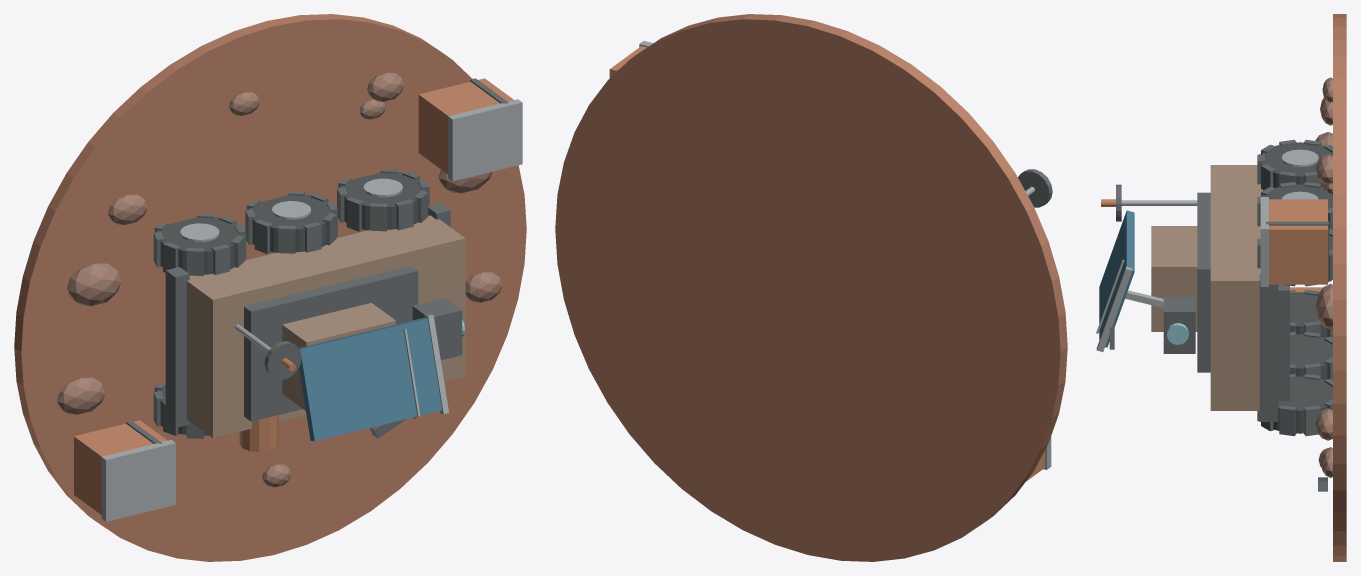
File: Mars_Abandoned_Equipment_Site.glb
The picture shows the model from 3 angles, left to right: view 1: azimuth 30°, elevation 25°; view 2: azimuth 150°, elevation 25°; view 3: azimuth 270°, elevation 25°; orthographic projection. The views are drawn at different scales.
Visible parts, largest first — view 1: Small_Martian_Diorama_Base, Rover_Main_Body, Broken_Solar_Panel, Top_Equipment_Deck, Crate_Lid_1, Crate_Lid_2, Salvage_Crate_1, Rear_Bumper, Main_Instrument_Box, Salvage_Crate_2, Right_Wheel_2, Right_Wheel_3 (+12 smaller); view 2: Small_Martian_Diorama_Base, Antenna_Dish; view 3: Rover_Main_Body, Small_Martian_Diorama_Base, Salvage_Crate_1, Main_Instrument_Box, Front_Bumper, Top_Equipment_Deck, Broken_Solar_Panel, Left_Wheel_3, Front_Sensor_Housing, Rover_Underframe, Left_Wheel_2, Right_Wheel_1 (+14 smaller).
Boxes of the visible parts, x1,y1,x2,y2 form: Small_Martian_Diorama_Base: (14,14,526,561); Rover_Main_Body: (186,215,465,437); Broken_Solar_Panel: (298,317,442,441); Top_Equipment_Deck: (244,266,418,421); Crate_Lid_1: (448,99,522,181); Crate_Lid_2: (101,440,175,521); Salvage_Crate_1: (418,78,513,173); Rear_Bumper: (165,267,189,427); Main_Instrument_Box: (282,303,395,410); Salvage_Crate_2: (74,420,167,514); Right_Wheel_2: (248,194,334,252); Right_Wheel_3: (340,172,426,230); Small_Martian_Diorama_Base: (555,14,1067,561); Antenna_Dish: (1018,169,1052,207); Rover_Main_Body: (1210,165,1263,410); Small_Martian_Diorama_Base: (1333,14,1346,561); Salvage_Crate_1: (1269,199,1327,284); Main_Instrument_Box: (1151,226,1197,331); Front_Bumper: (1259,274,1278,421); Top_Equipment_Deck: (1197,192,1210,372); Broken_Solar_Panel: (1099,210,1134,347); Left_Wheel_3: (1273,376,1332,433); Front_Sensor_Housing: (1163,297,1195,353); Rover_Underframe: (1278,284,1289,401); Left_Wheel_2: (1290,334,1332,379); Right_Wheel_1: (1261,142,1332,187).
Bounding box in the file's own units: 6.5 × 6.5 × 2.97.
